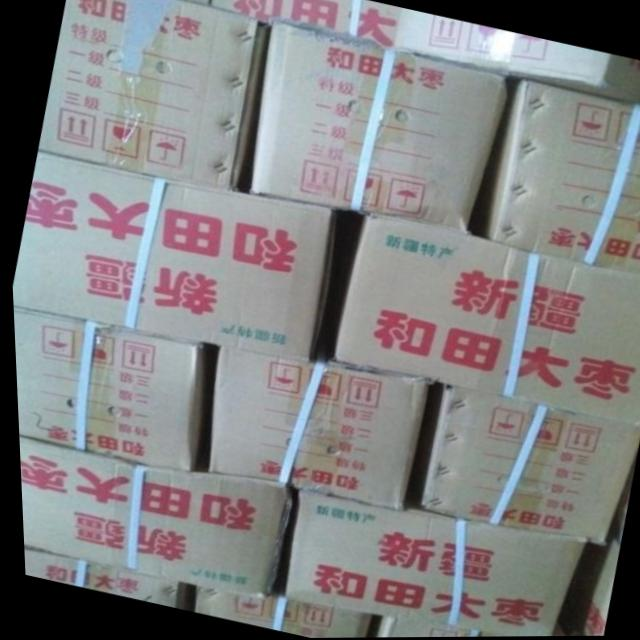box: (329, 210, 640, 428), (10, 152, 332, 361), (245, 17, 512, 231), (36, 0, 271, 190), (15, 437, 292, 598), (279, 490, 579, 637), (204, 335, 425, 511), (403, 379, 635, 545), (11, 307, 205, 472), (479, 78, 640, 274), (392, 10, 640, 101), (19, 549, 187, 610), (187, 586, 368, 638), (211, 0, 402, 48), (359, 613, 506, 638)
